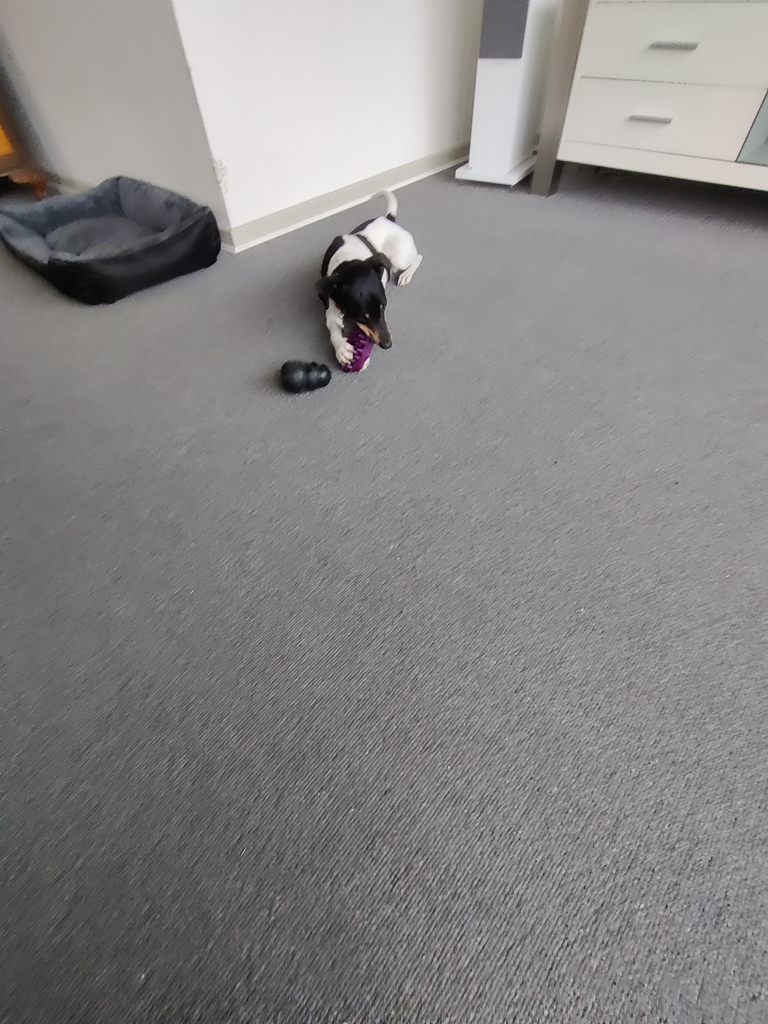Dog: (303, 179, 448, 389)
